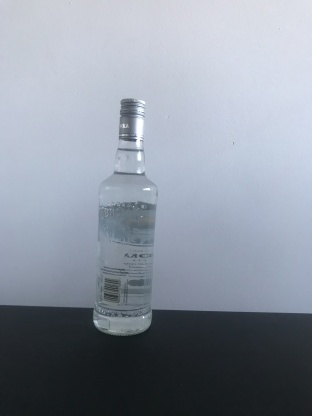nakretka: (117, 96, 147, 142)
